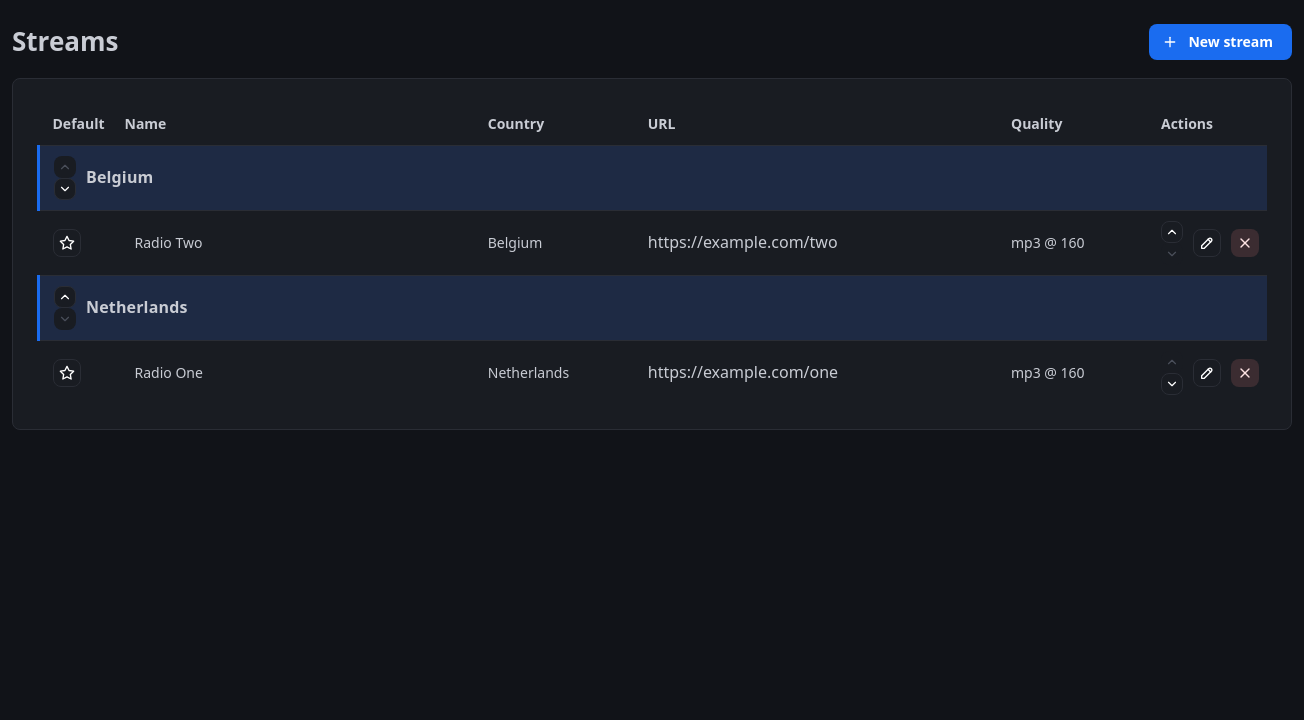
it: StreamTable › surfaces a 409 from updateStream inline
Expected: the text "Radio One" is shown, 110,340 -> 474,405
Click the button named "Edit Radio One": (1207, 373) 1193,359 -> 1221,387
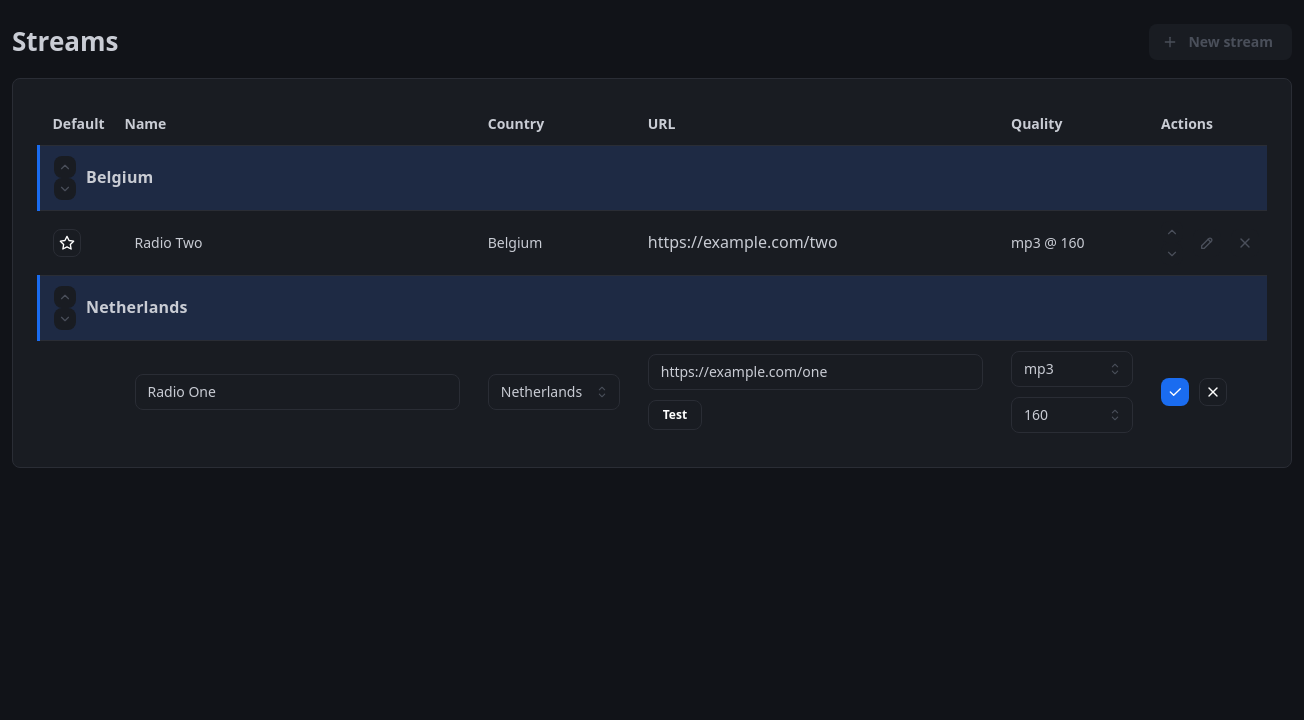
Replace the text in the field named "Name" with "Radio One Renamed": (297, 392) 134,374 -> 460,410
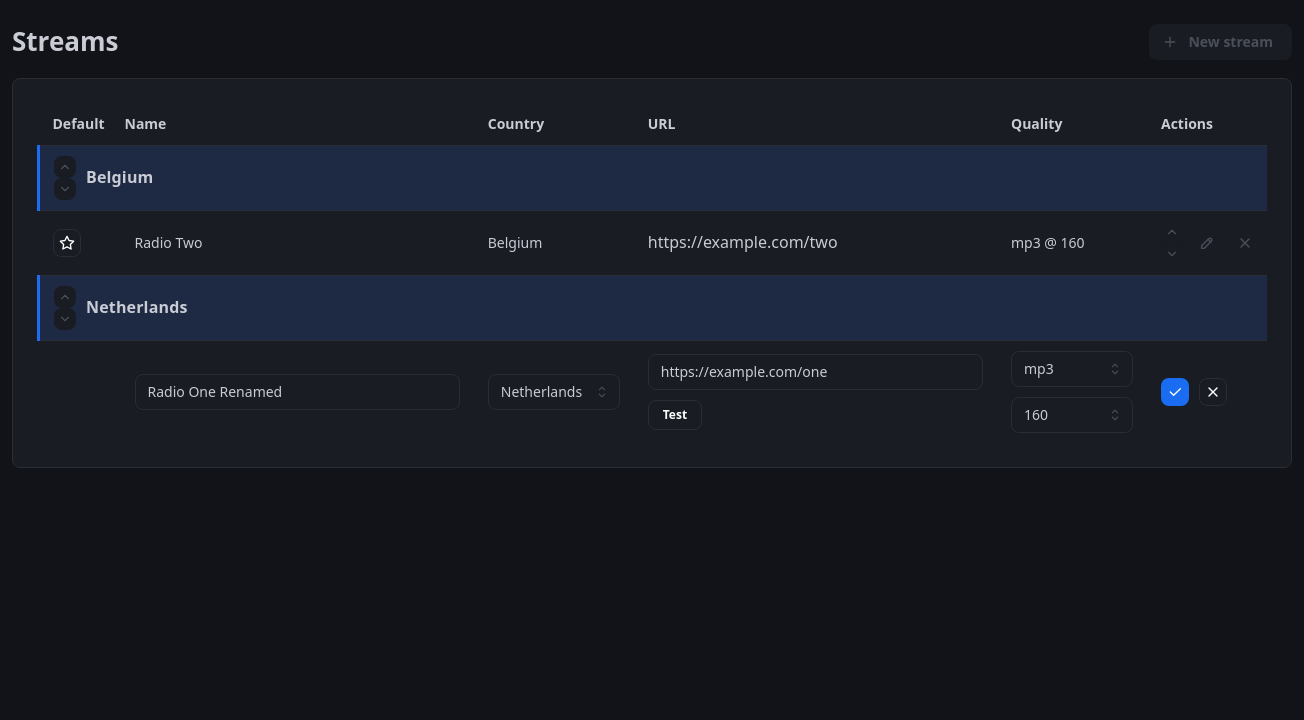
Click the button named "Save Radio One": (1175, 392) 1161,378 -> 1189,406
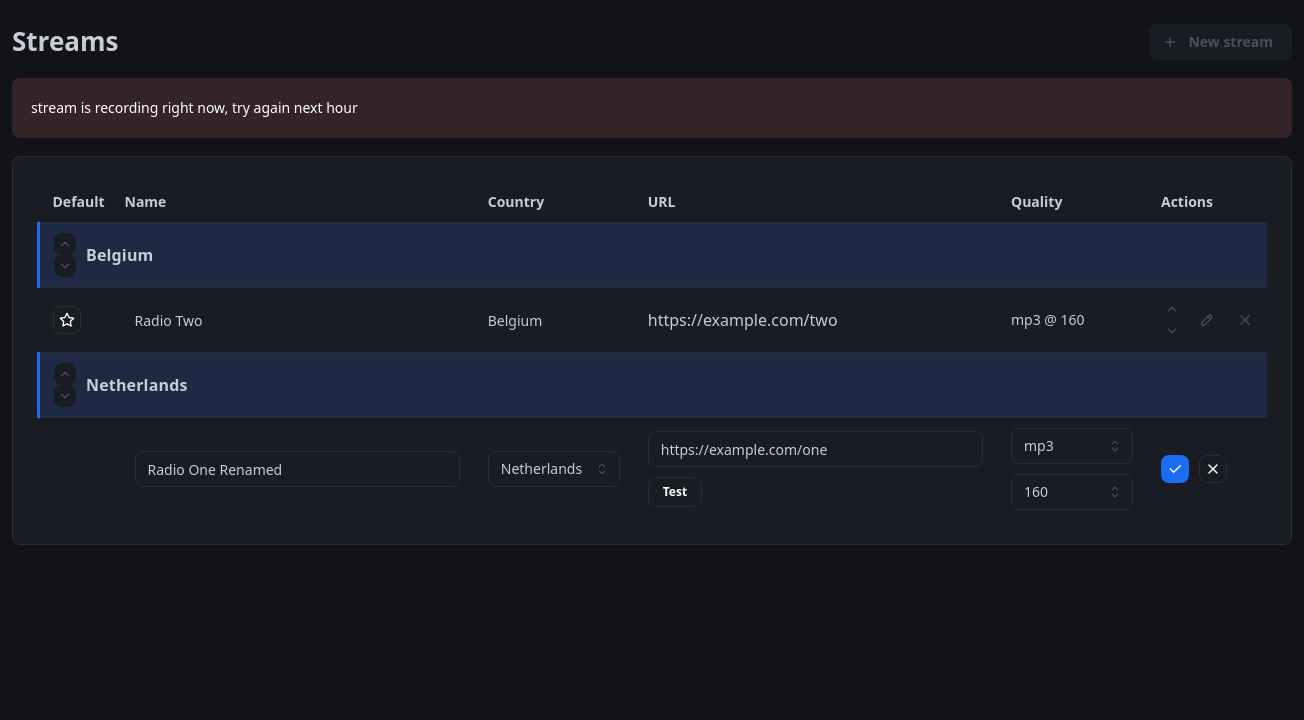
Expected: the text "stream is recording right now, try again next hour" is shown, 31,98 -> 358,117
